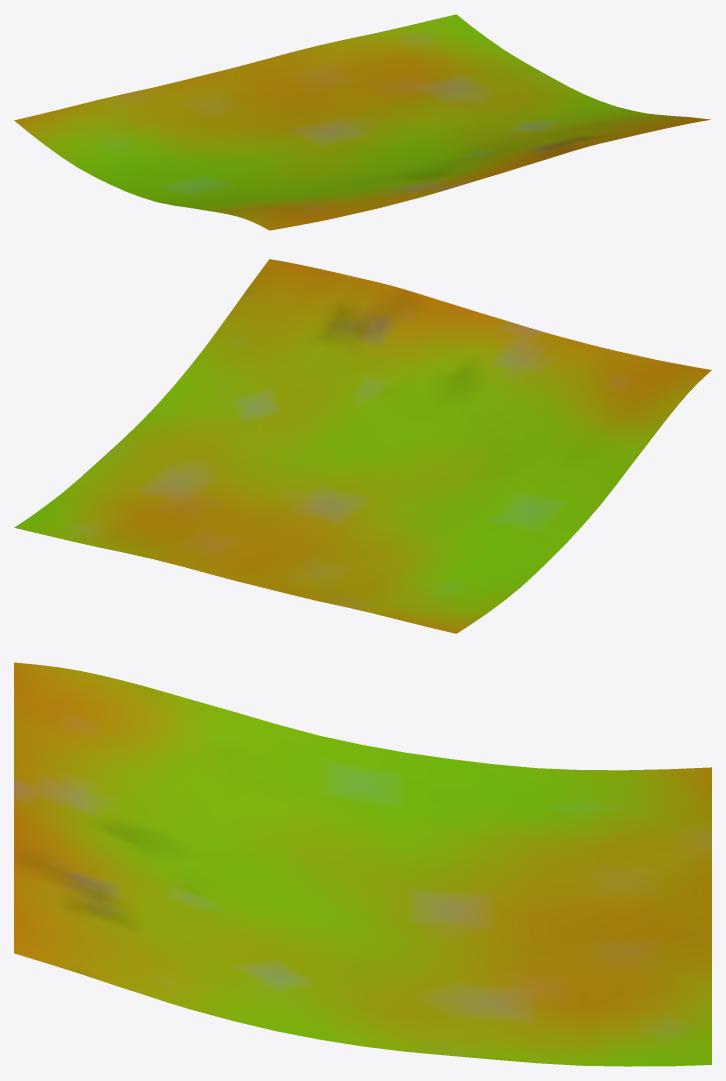
Rendered from SM_BM_BT_Terrain_6_6.glb.
3 views of the same model, one above another, from view 1: azimuth 30°, elevation 25°; view 2: azimuth 150°, elevation 25°; view 3: azimuth 270°, elevation 25° (orthographic). The views are drawn at different scales.
Parts seen in each view (by area): view 1: SM_BM_BT_Terrain_6_6; view 2: SM_BM_BT_Terrain_6_6; view 3: SM_BM_BT_Terrain_6_6.
Boxes of the visible parts, x1,y1,x2,y2 form: SM_BM_BT_Terrain_6_6: [14, 14, 710, 230]; SM_BM_BT_Terrain_6_6: [14, 259, 711, 633]; SM_BM_BT_Terrain_6_6: [14, 662, 711, 1066].
Bounding box in the file's own units: 256 × 47.64 × 256.
